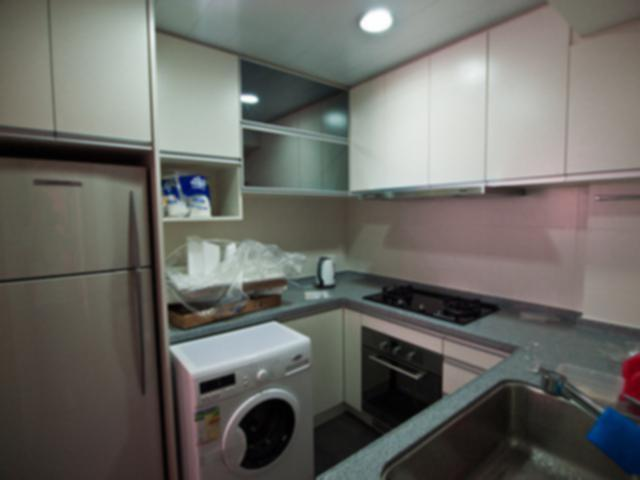Lavaplatos: (374, 363, 639, 479)
